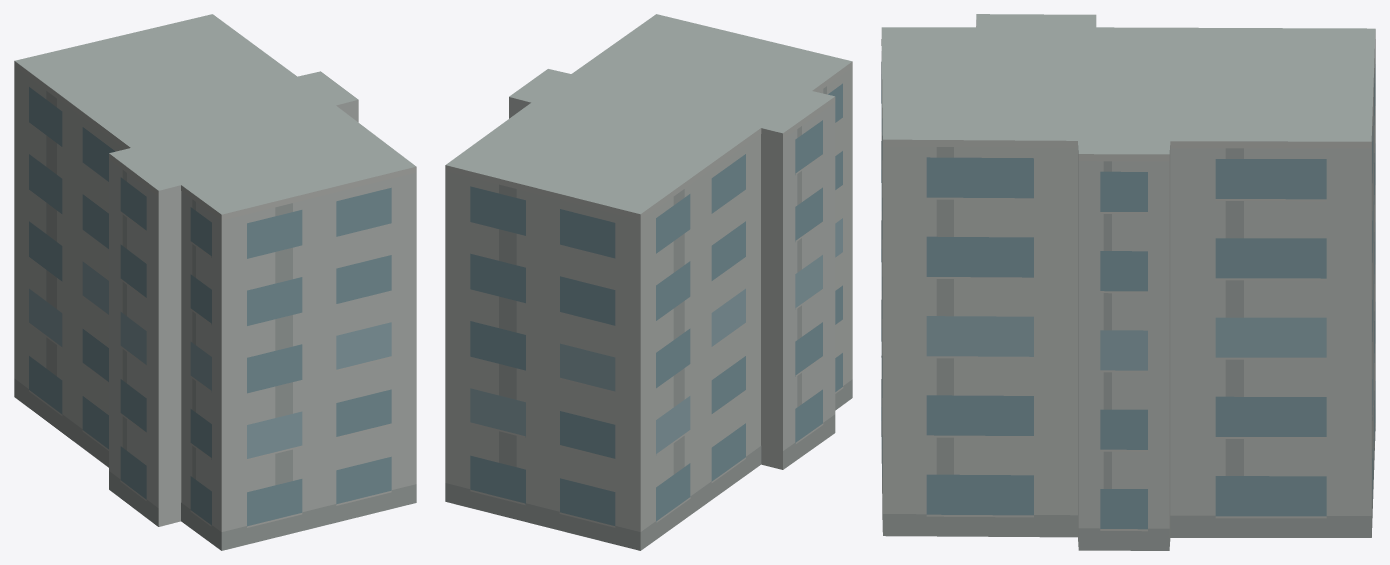
Rendered from survey-upis-32630240.glb.
3 views of the same model, side by side, from view 1: azimuth 30°, elevation 25°; view 2: azimuth 150°, elevation 25°; view 3: azimuth 270°, elevation 25° (orthographic). The views are drawn at different scales.
Visible parts, largest first — view 1: survey-upis-32630240.tmp; view 2: survey-upis-32630240.tmp; view 3: survey-upis-32630240.tmp.
Boxes of the visible parts, x1,y1,x2,y2 form: survey-upis-32630240.tmp: [14, 14, 416, 550]; survey-upis-32630240.tmp: [445, 14, 852, 550]; survey-upis-32630240.tmp: [881, 14, 1375, 550].
Bounding box in the file's own units: 10.47 × 13.77 × 15.57.
